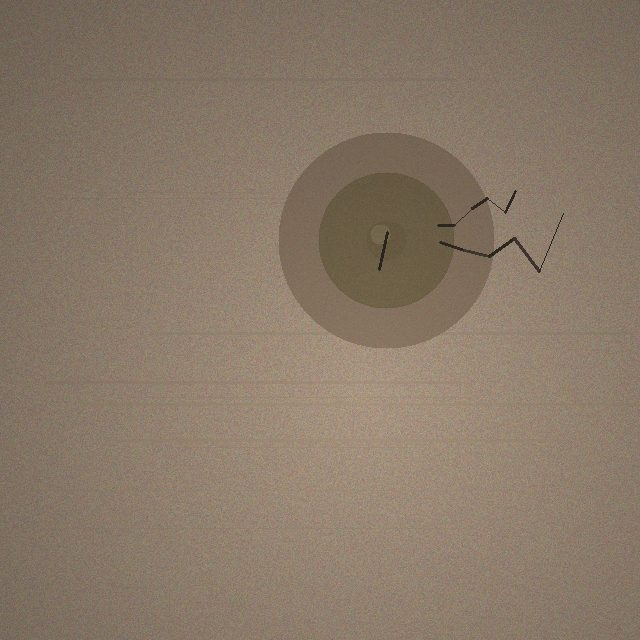crack: (278, 132, 494, 348)
